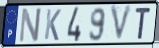4: (66, 5, 82, 43)
9: (88, 7, 107, 42)
K: (43, 8, 62, 43)
N: (18, 7, 43, 44)
T: (134, 7, 152, 41)
V: (109, 4, 134, 44)
